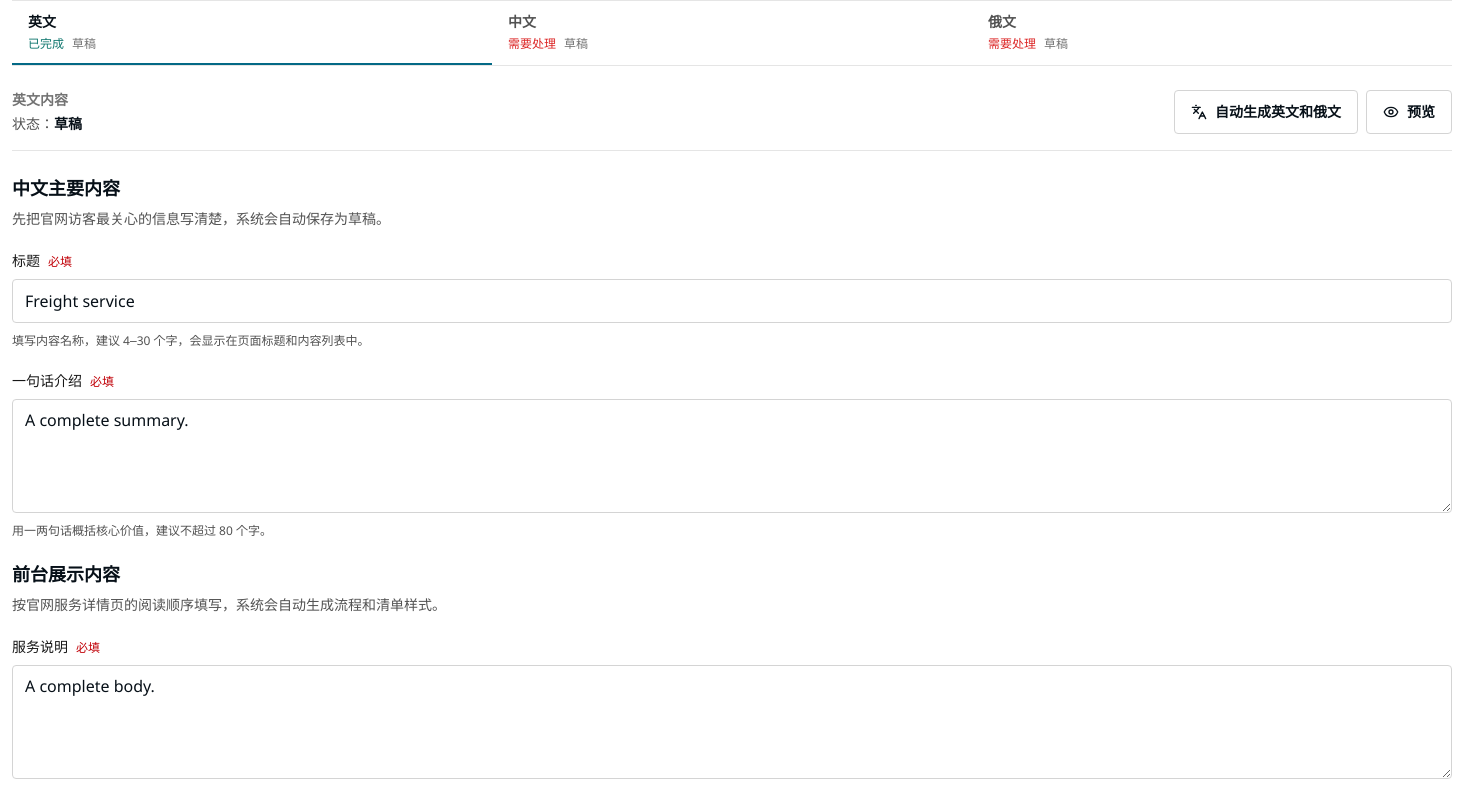
Test case: ContentEditor › generates editable English and Russian drafts from Chinese content
Click the button "自动生成英文和俄文": (1266, 112) [1174, 90, 1358, 134]
(page scrolled)
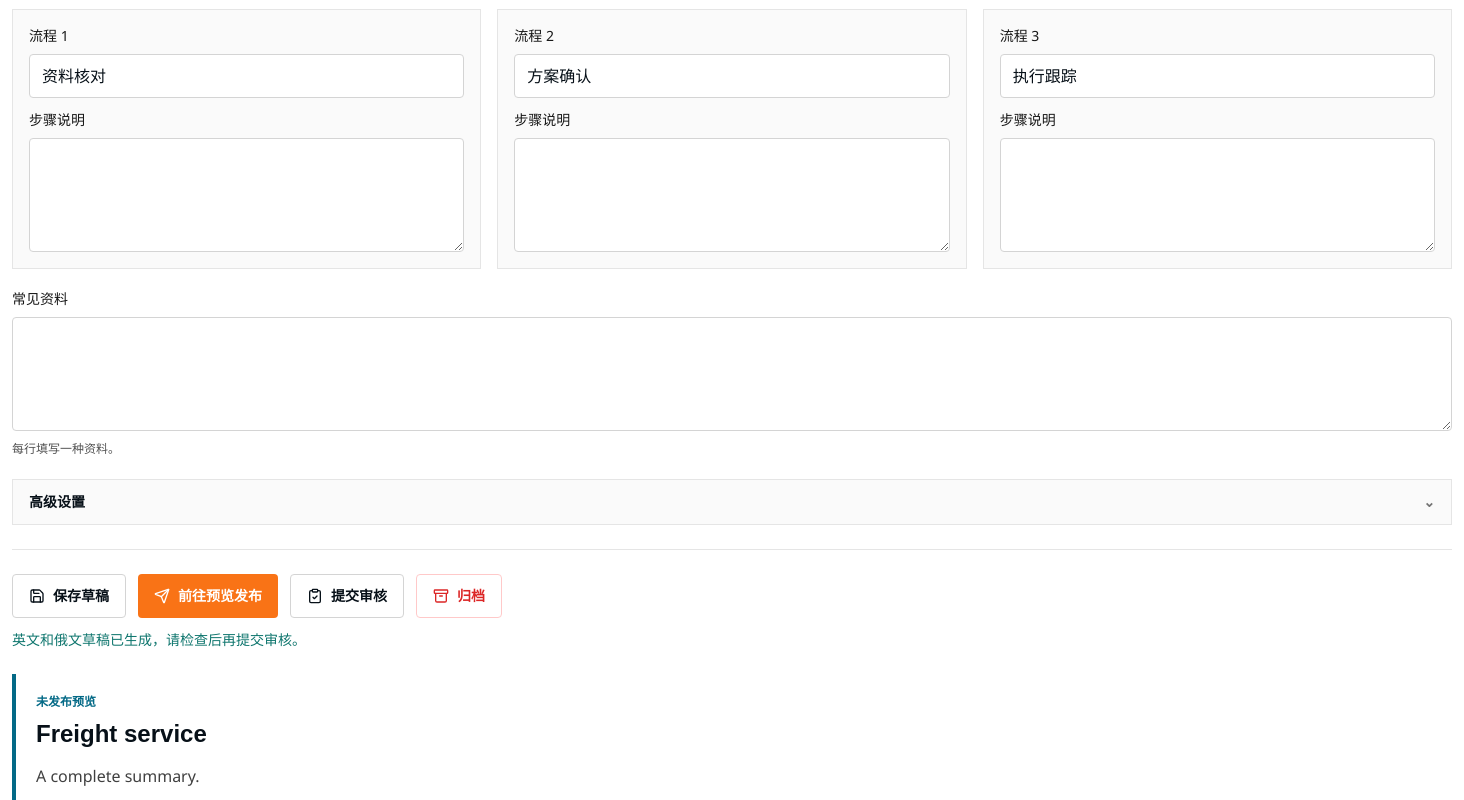
Result: the text "英文和俄文草稿已生成，请检查后再提交审核。" is shown at [12, 630, 306, 649]
